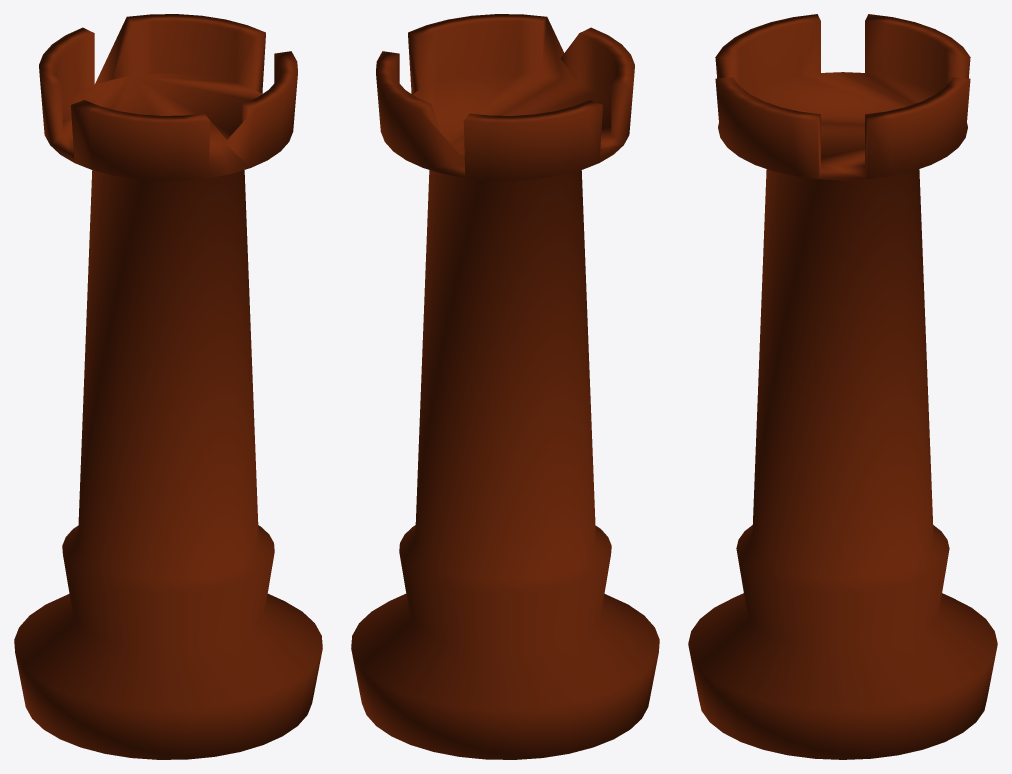
The picture shows the model from 3 angles, left to right: view 1: azimuth 30°, elevation 25°; view 2: azimuth 150°, elevation 25°; view 3: azimuth 270°, elevation 25°; orthographic projection.
Parts seen in each view (by area): view 1: 円柱; view 2: 円柱; view 3: 円柱.
Boxes of the visible parts, left/top/right/bottom form: 円柱: left=14, top=14, right=322, bottom=759; 円柱: left=351, top=14, right=659, bottom=759; 円柱: left=688, top=14, right=997, bottom=759.
Bounding box in the file's own units: 282 × 633 × 282.
